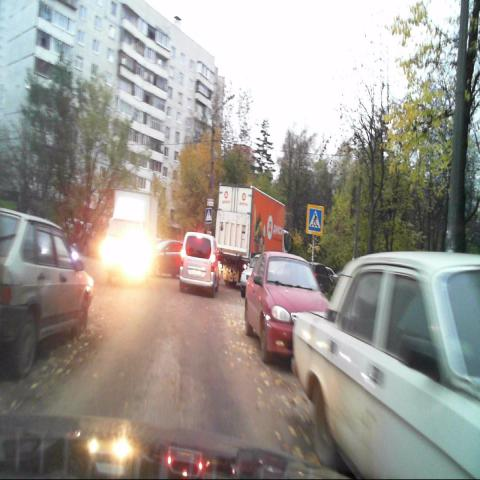5_19_1: (306, 204, 324, 235)
